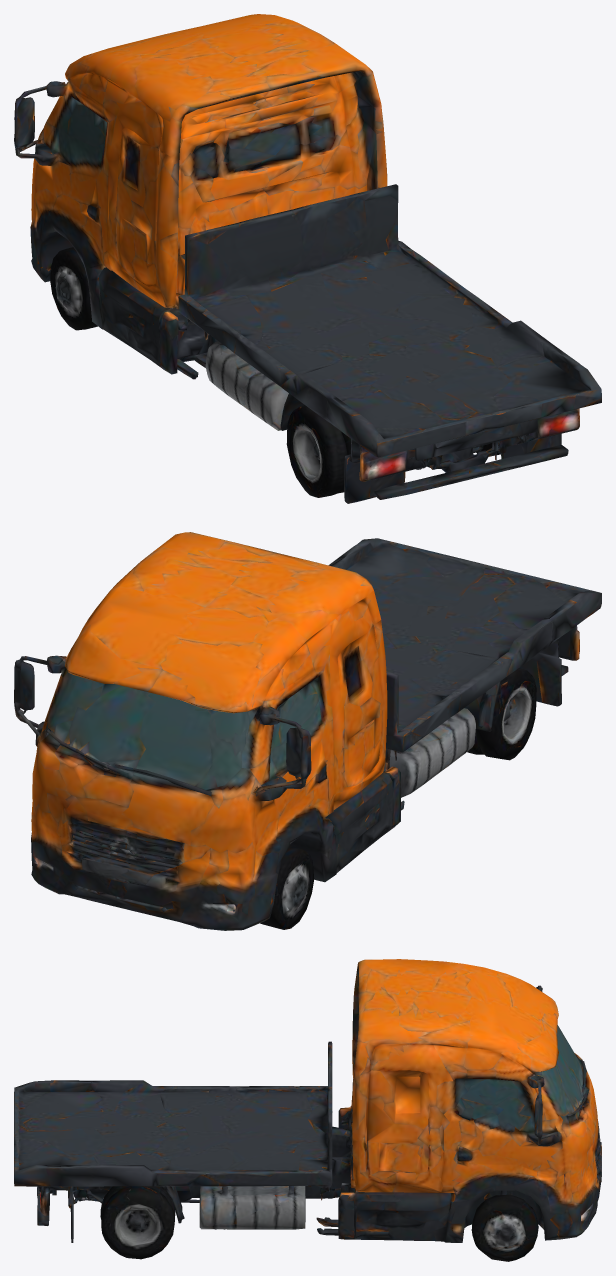
Rendered from carrier.glb.
3 views of the same model, one above another, from view 1: azimuth 30°, elevation 25°; view 2: azimuth 150°, elevation 25°; view 3: azimuth 270°, elevation 25° (orthographic). The views are drawn at different scales.
Bounding box in the file's own units: 0.8843 × 0.8154 × 1.9.
Materials: 1 (1 with a texture image).
